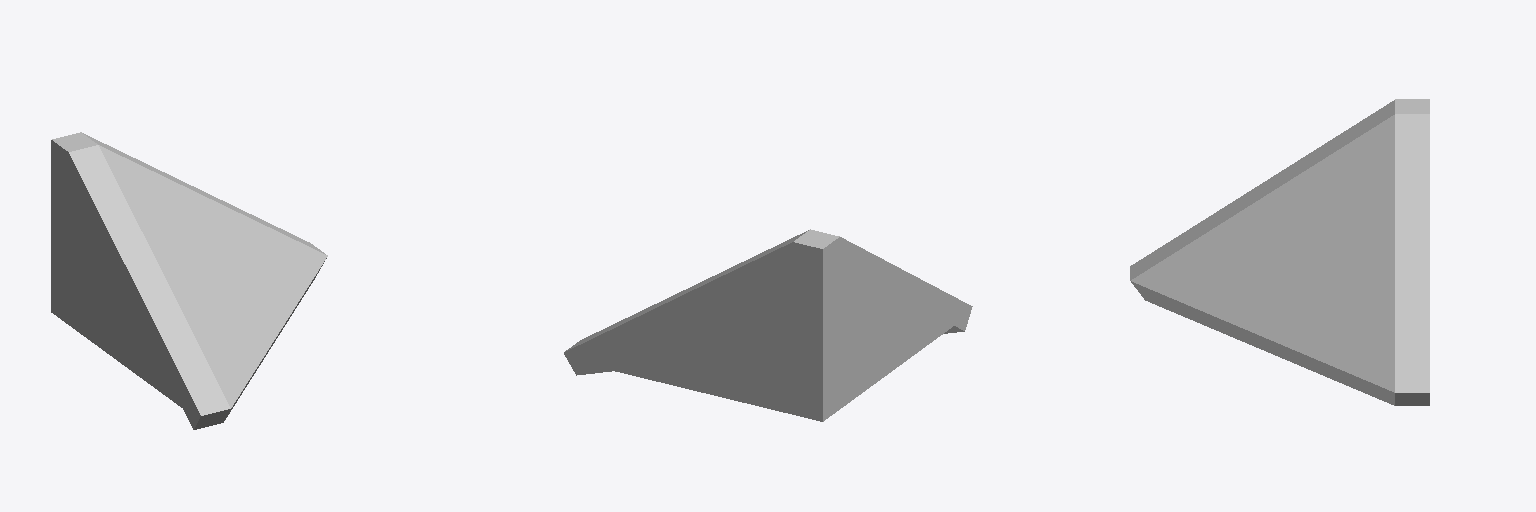
Rendered from roof-slanted-corner-b.obj.
3 renders of one model, left to right at view 1: azimuth 30°, elevation 25°; view 2: azimuth 150°, elevation 25°; view 3: azimuth 270°, elevation 25°, orthographic.
Visible parts, largest first — view 1: roof-slanted-corner-b; view 2: roof-slanted-corner-b; view 3: roof-slanted-corner-b.
Boxes of the visible parts, x1=… form: roof-slanted-corner-b: x1=51, y1=132, x2=327, y2=429; roof-slanted-corner-b: x1=564, y1=229, x2=972, y2=421; roof-slanted-corner-b: x1=1130, y1=99, x2=1429, y2=405.
Size of the model in its own units: 1.14 by 0.782 by 1.14.